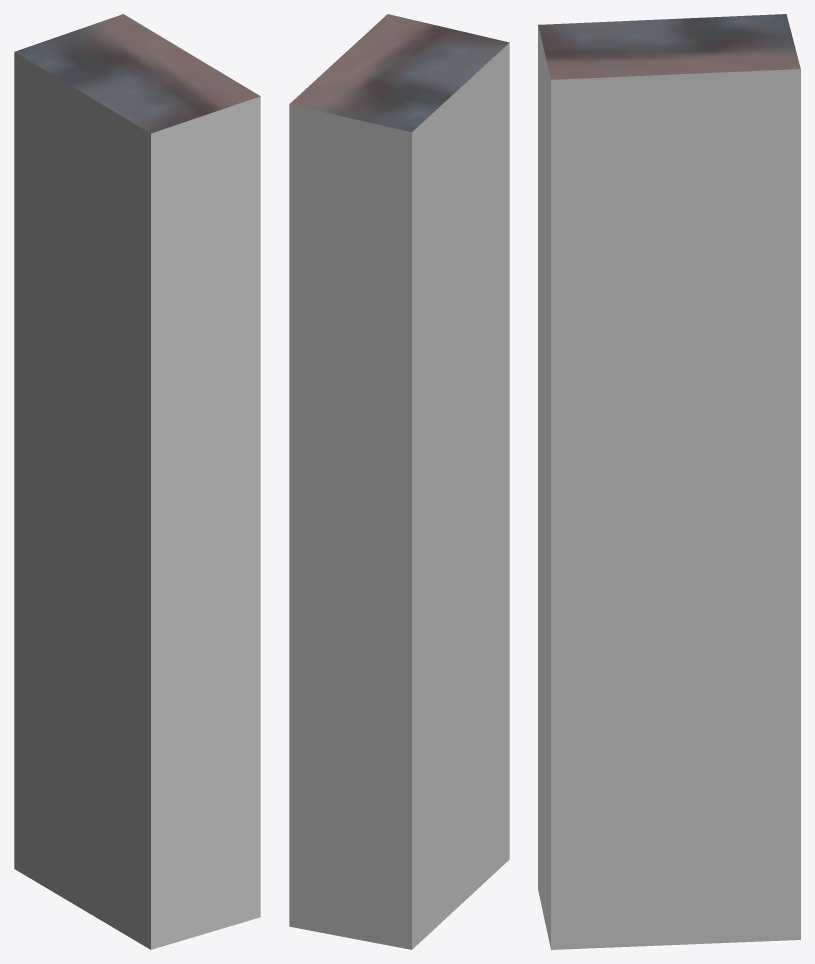
File: DEBW_0010007THWH.gltf
3 renders of one model, left to right at view 1: azimuth 30°, elevation 25°; view 2: azimuth 150°, elevation 25°; view 3: azimuth 270°, elevation 25°, orthographic. The views are drawn at different scales.
Parts seen in each view (by area): view 1: Z_UP; view 2: Z_UP; view 3: Z_UP.
Part boxes in pixels (x1,y1,x2,y2): Z_UP: (14,14,260,949); Z_UP: (289,14,509,949); Z_UP: (538,14,800,949).
Bounding box in the file's own units: 2.44 × 14.16 × 3.87.
2 materials, 1 textured.
